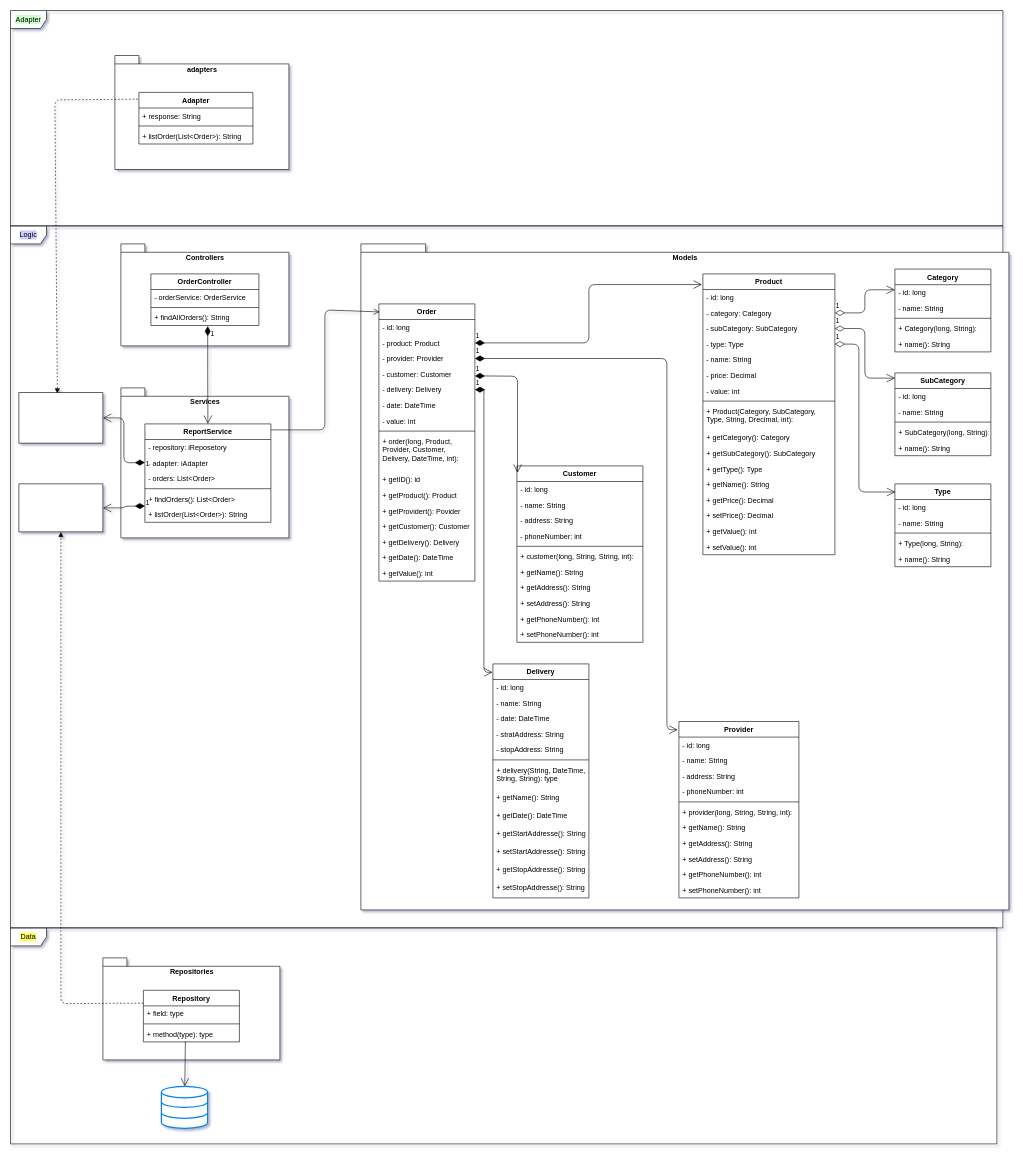
Some shapes in this 1023 by 1158 pixel diagram are drawn without their labels. Each missing label, with the centre of its shape:
"<<Interface>> iAdapter + sendDataUser() + sendData" belongs at pixel 60 417.
"<<Interface>> iRepository + requestData() + saveData(List<Order>)" belongs at pixel 60 507.
